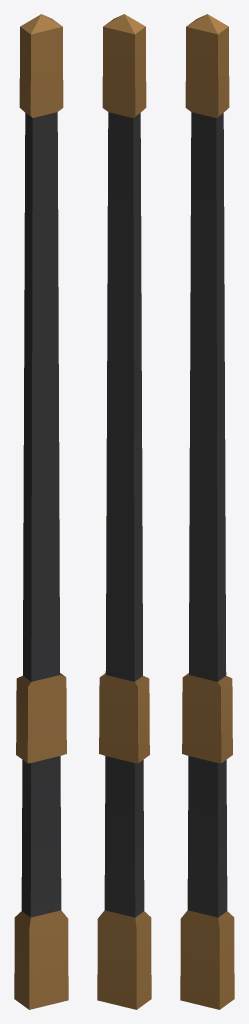
Rendered from SM_Wep_Rapier_01_Sheath.glb.
3 renders of one model, left to right at view 1: azimuth 30°, elevation 25°; view 2: azimuth 150°, elevation 25°; view 3: azimuth 330°, elevation 25°, orthographic.
Visible parts, largest first — view 1: SM_Wep_Rapier_01_Sheath; view 2: SM_Wep_Rapier_01_Sheath; view 3: SM_Wep_Rapier_01_Sheath.
Boxes of the visible parts, box(x1,y1,x2,y2) form: SM_Wep_Rapier_01_Sheath: box(14, 14, 68, 1009); SM_Wep_Rapier_01_Sheath: box(97, 14, 151, 1009); SM_Wep_Rapier_01_Sheath: box(180, 14, 234, 1009).
Size of the model in its own units: 0.00048 by 0.0115 by 0.000314.
